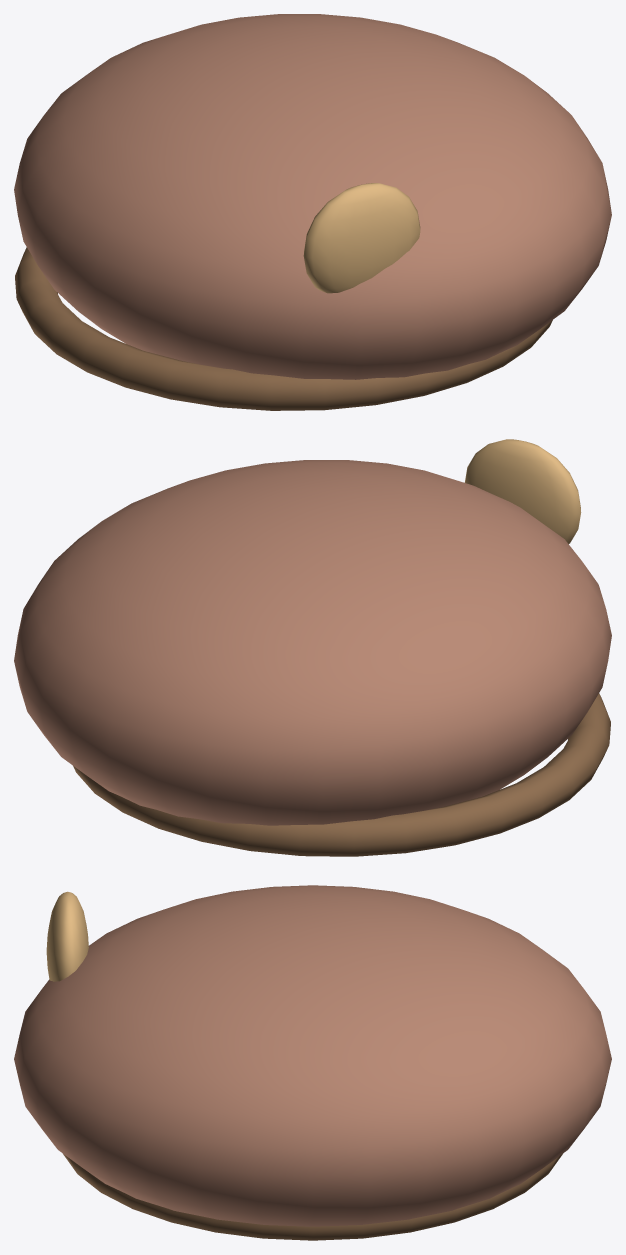
File: hat_pastry_beret_soft.glb
3 renders of one model, top to bottom at view 1: azimuth 30°, elevation 25°; view 2: azimuth 150°, elevation 25°; view 3: azimuth 270°, elevation 25°, orthographic. The views are drawn at different scales.
Parts seen in each view (by area): view 1: hat_pastry_beret_soft; view 2: hat_pastry_beret_soft; view 3: hat_pastry_beret_soft.
Part boxes in pixels (<box>): hat_pastry_beret_soft: <box>14,14,611,410</box>; hat_pastry_beret_soft: <box>14,439,611,856</box>; hat_pastry_beret_soft: <box>14,885,611,1240</box>.
Size of the model in its own units: 0.398 by 0.2 by 0.422.
